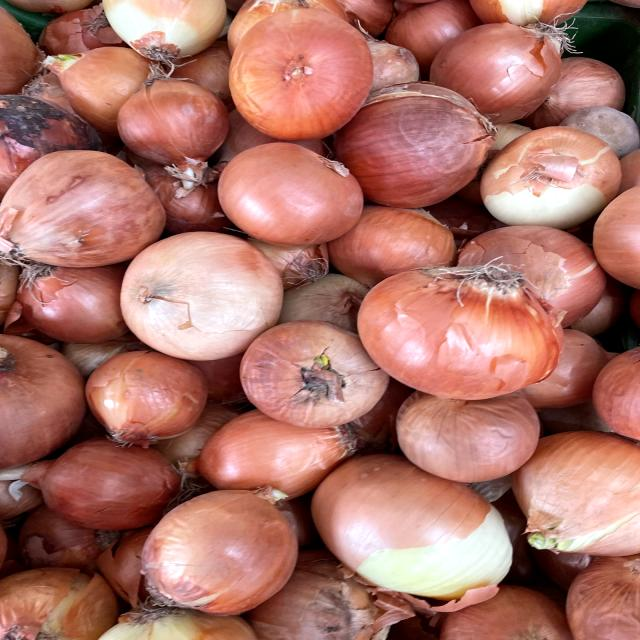onion: (348, 250, 576, 408), (316, 449, 525, 608), (104, 228, 301, 367), (131, 479, 312, 623), (224, 10, 380, 144), (208, 137, 384, 244), (231, 316, 392, 423), (478, 119, 630, 230), (74, 346, 214, 451)
